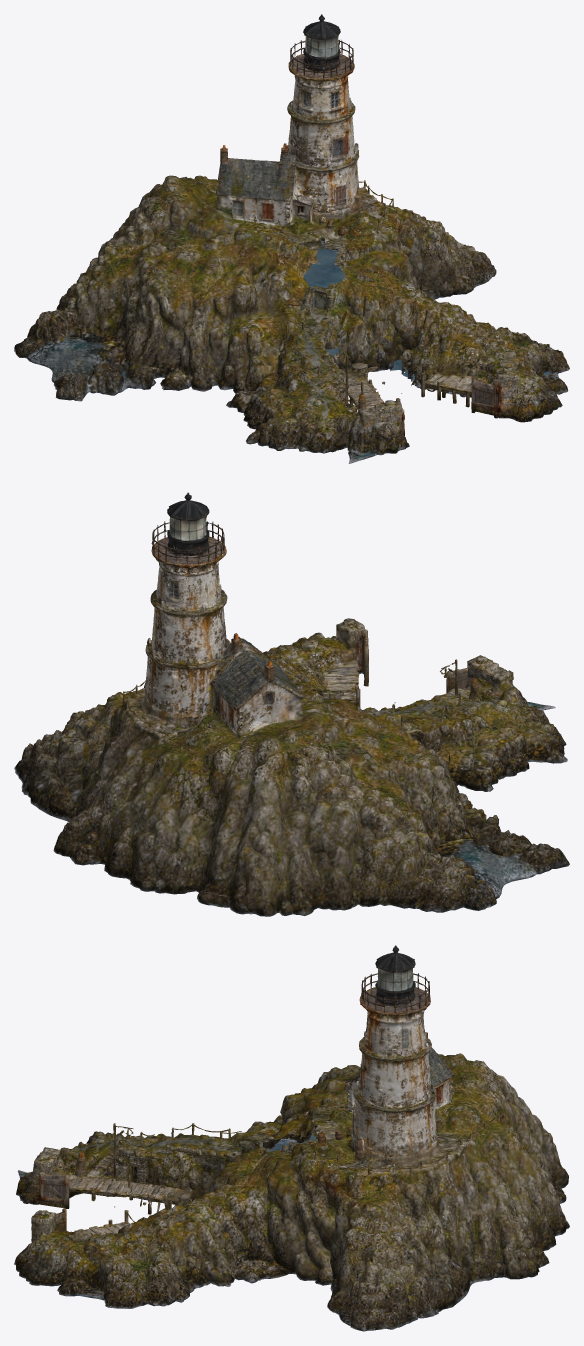
File: 8-island.glb
3 views of the same model, one above another, from view 1: azimuth 30°, elevation 25°; view 2: azimuth 150°, elevation 25°; view 3: azimuth 270°, elevation 25° (orthographic). The views are drawn at different scales.
Parts seen in each view (by area): view 1: Mesh_0; view 2: Mesh_0; view 3: Mesh_0.
Boxes of the visible parts, bbox=[...] form: Mesh_0: bbox=[14, 14, 569, 463]; Mesh_0: bbox=[14, 492, 569, 916]; Mesh_0: bbox=[14, 945, 569, 1331].
Size of the model in its own units: 1.9 by 1.12 by 1.85.
1 material, 1 textured.
